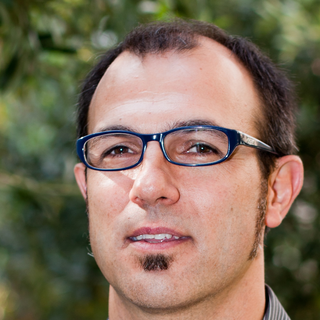eye: (167, 138, 225, 166), (91, 142, 142, 164)
